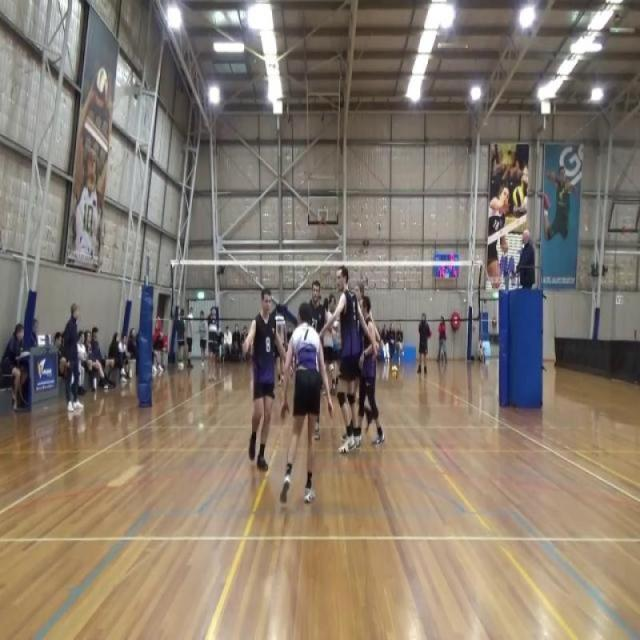volleyball: (94, 68, 108, 110), (512, 184, 525, 208), (391, 364, 398, 380)
